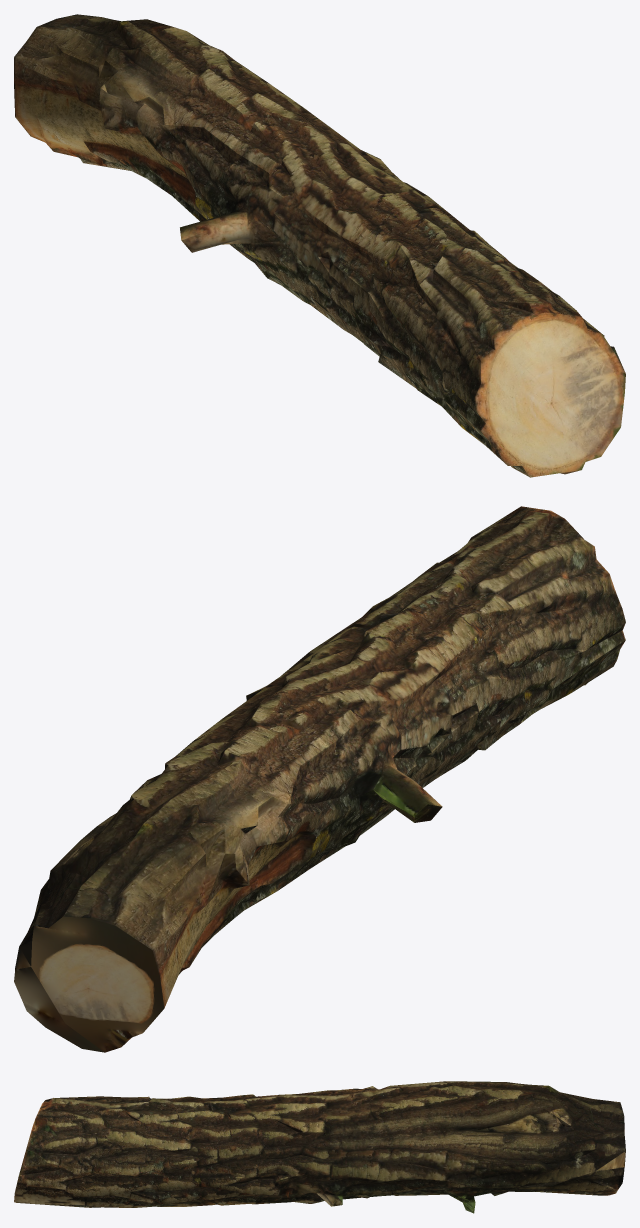
The model's file is Log.fbx.
3 views of the same model, one above another, from view 1: azimuth 30°, elevation 25°; view 2: azimuth 150°, elevation 25°; view 3: azimuth 270°, elevation 25° (orthographic). The views are drawn at different scales.
Visible parts, largest first — view 1: Log; view 2: Log; view 3: Log.
Boxes of the visible parts, box(x1,y1,x2,y2) form: Log: box(14, 14, 625, 477); Log: box(14, 506, 625, 1052); Log: box(14, 1081, 625, 1213).
Bounding box in the file's own units: 135 × 109 × 537.
